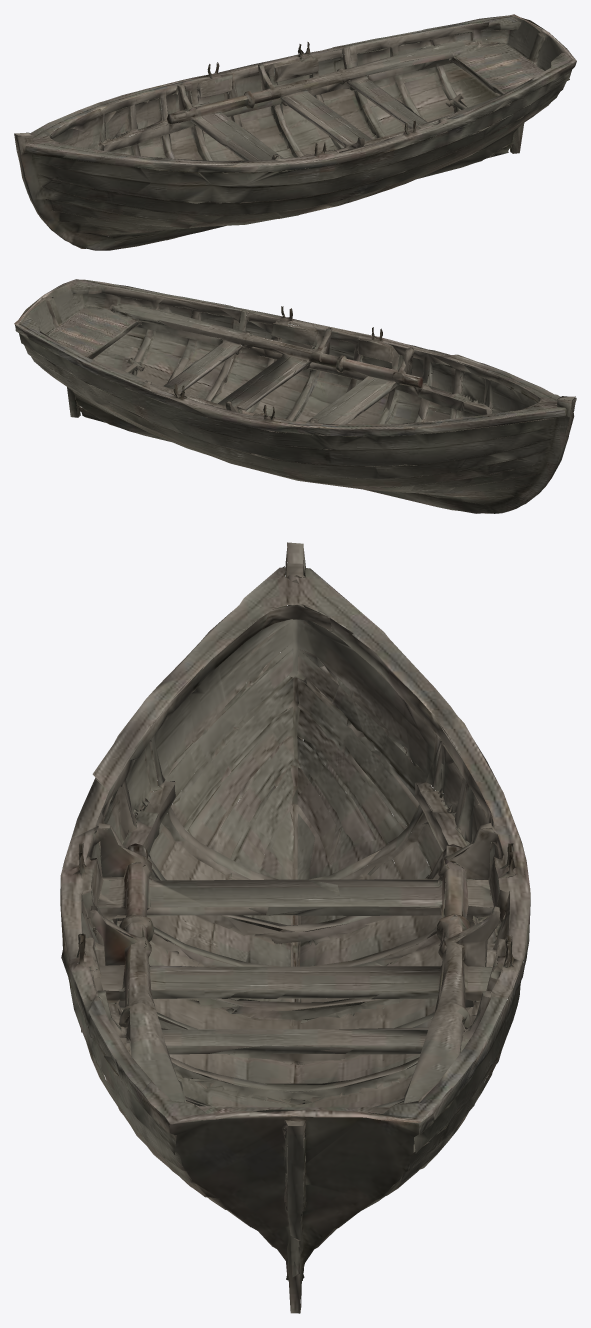
The model's file is rowboat.glb.
3 views of the same model, one above another, from view 1: azimuth 30°, elevation 25°; view 2: azimuth 150°, elevation 25°; view 3: azimuth 270°, elevation 25° (orthographic). The views are drawn at different scales.
Visible parts, largest first — view 1: Mesh_0; view 2: Mesh_0; view 3: Mesh_0.
Boxes of the visible parts, <box> form: Mesh_0: <box>14,14,576,250</box>; Mesh_0: <box>14,279,576,513</box>; Mesh_0: <box>60,542,530,1313</box>.
Bounding box in the file's own units: 1.9 × 0.4796 × 0.7242.
1 material, 1 textured.
